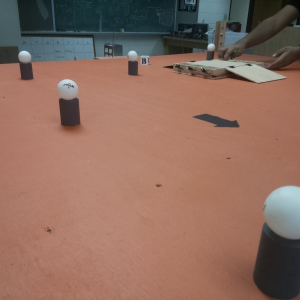blockB: (142, 55, 151, 66)
corner: (215, 20, 227, 42)
obstacle: (253, 184, 299, 300), (57, 77, 80, 128), (175, 61, 215, 83), (18, 52, 34, 80), (126, 51, 140, 76), (207, 43, 216, 58)
slope: (224, 63, 280, 83)
start: (191, 110, 242, 132)
